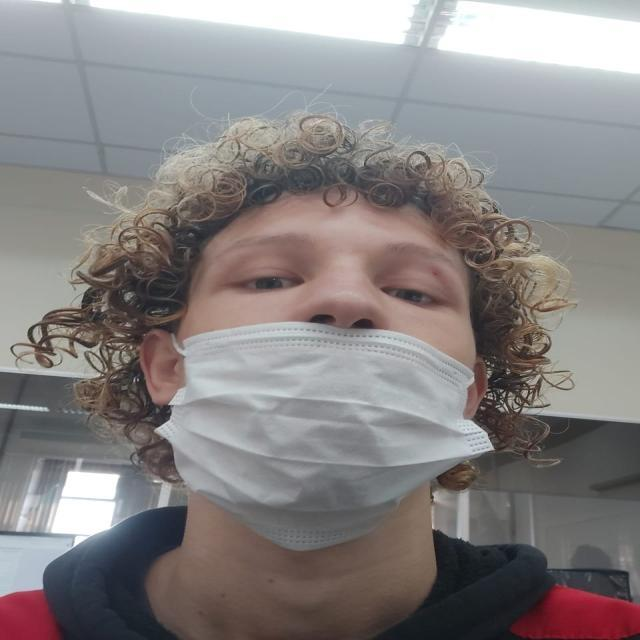hairnet: (204, 193, 466, 497)
